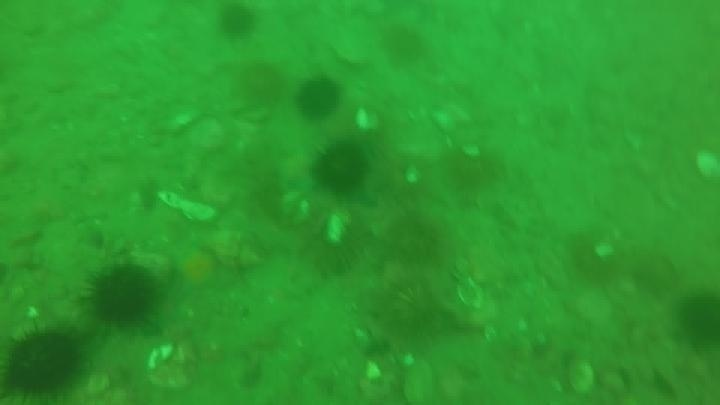echinus: (2, 327, 84, 401), (371, 273, 448, 346), (85, 263, 158, 328), (302, 209, 366, 278), (382, 211, 445, 267), (311, 141, 371, 197), (568, 230, 625, 288), (442, 140, 503, 194), (676, 292, 719, 349), (237, 61, 286, 107), (294, 76, 342, 122), (380, 24, 427, 67), (216, 3, 259, 40)
scallop: (143, 341, 195, 392)
starfish: (169, 244, 228, 297)
